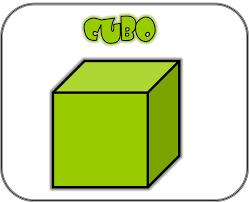cubos: (44, 55, 198, 194)
